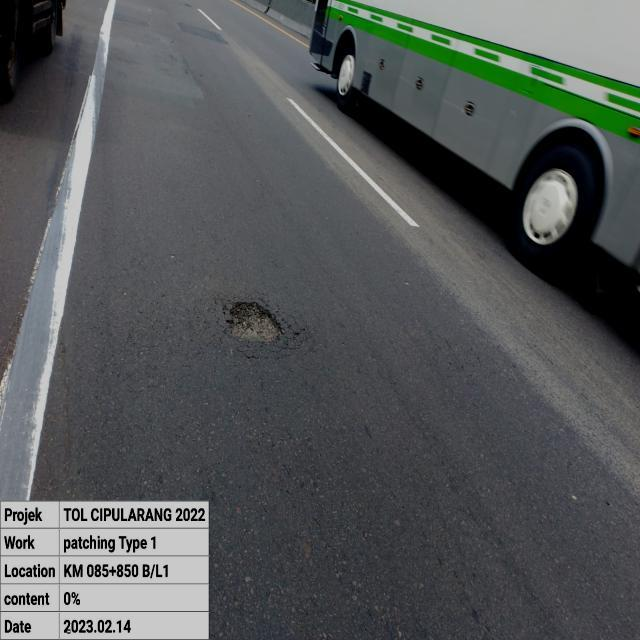Buraco: (222, 298, 289, 348)
